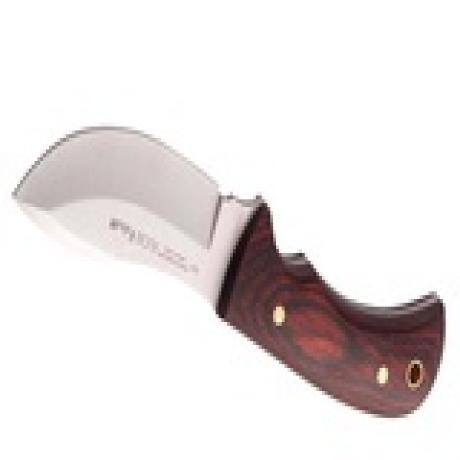weapon: (12, 116, 448, 422)
